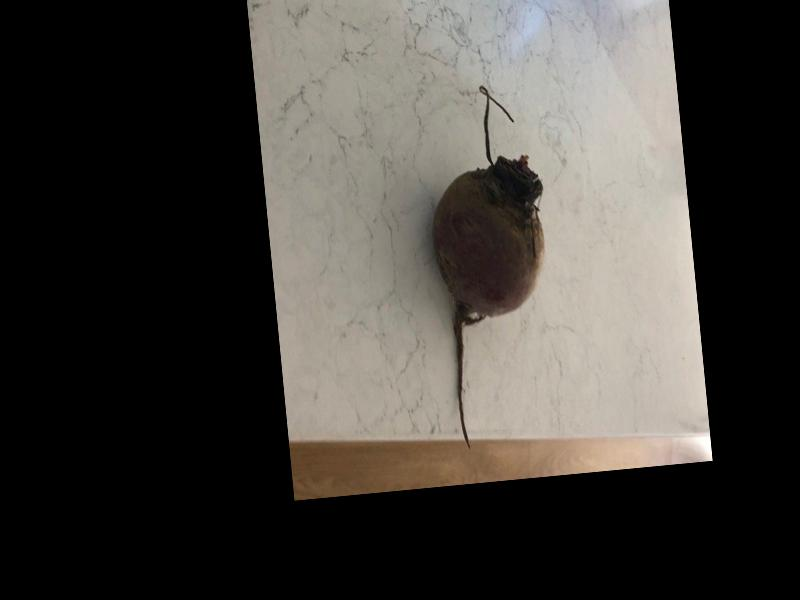Beet: (420, 82, 564, 454)
